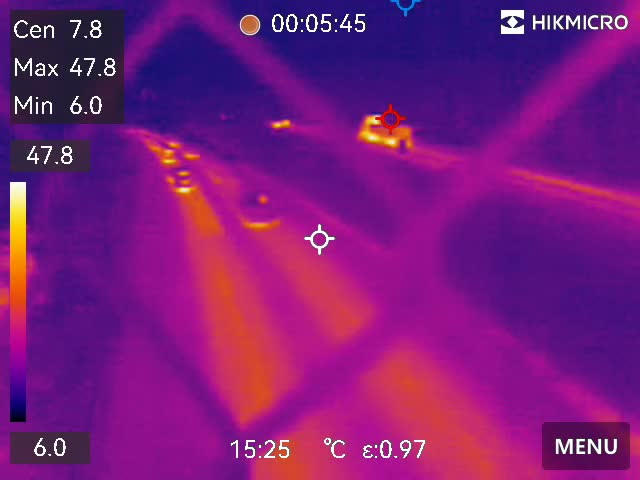heavyTruck: (354, 107, 417, 149)
